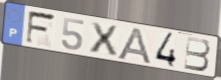4: (154, 31, 179, 70)
5: (61, 16, 86, 51)
A: (115, 26, 153, 66)
B: (183, 35, 212, 73)
F: (24, 9, 58, 46)
X: (88, 21, 119, 57)
